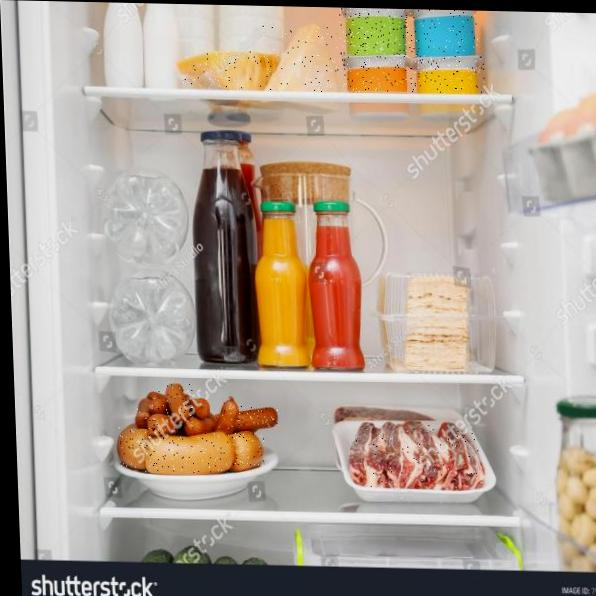beef: (355, 423, 484, 489)
cheese: (262, 23, 340, 93), (179, 50, 272, 90)
sausage: (144, 432, 234, 474), (119, 423, 146, 468), (166, 384, 194, 426), (232, 433, 265, 468), (237, 405, 279, 427), (215, 400, 239, 430), (147, 414, 176, 432), (148, 391, 169, 413), (137, 399, 153, 427)
yoghurt: (407, 9, 484, 55), (339, 8, 410, 56), (410, 54, 485, 94), (342, 54, 410, 94)
